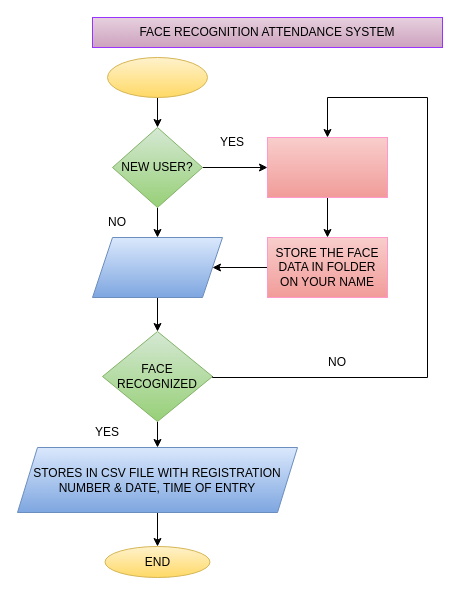
This 460x595 diagram has some shape labels left out. Each missing label, with the centre of its shape:
GIVE YOUR PHOTOGRAPH: point (327, 167)
RECOGNIZE THE FACE: point (157, 267)
START: point (157, 77)
